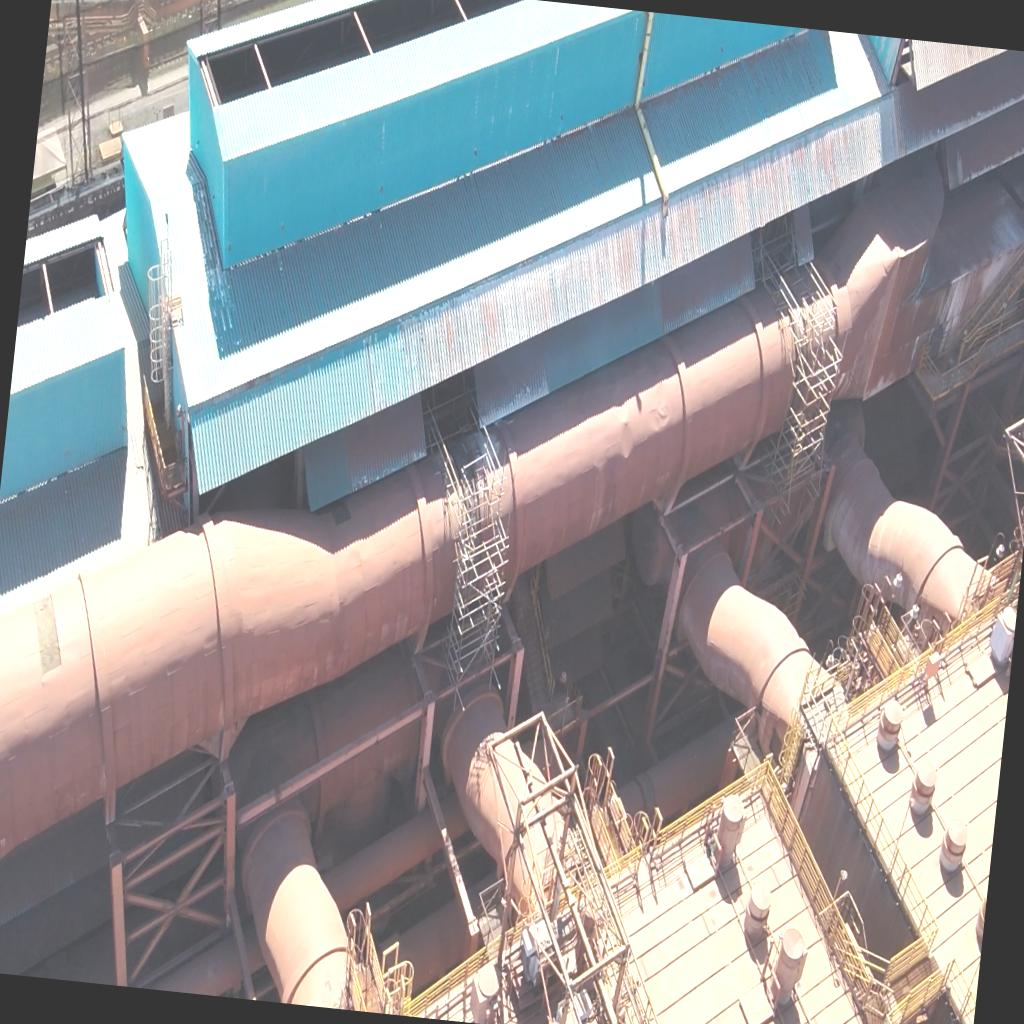Failures: (27, 592, 68, 680), (331, 497, 350, 529)
